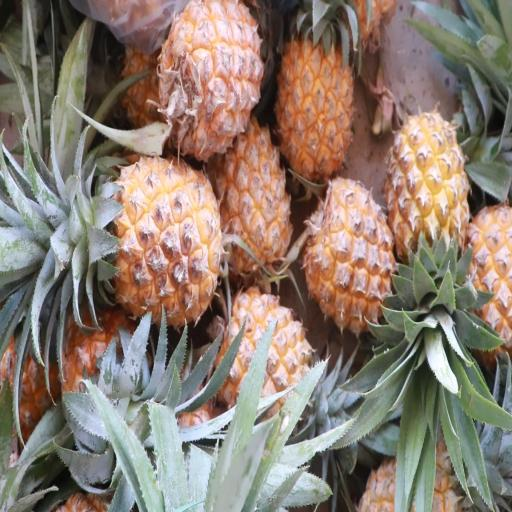Pineapple - v8 v1: (54, 150, 225, 328), (212, 282, 328, 440), (155, 1, 265, 164), (300, 173, 403, 343), (385, 107, 473, 303), (274, 4, 357, 188), (215, 112, 295, 290)
